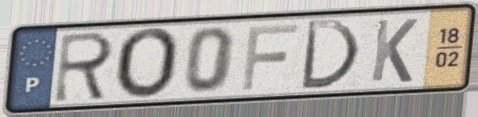0: (182, 24, 236, 97)
D: (297, 17, 363, 92)
F: (239, 22, 301, 93)
K: (368, 17, 421, 85)
O: (113, 25, 183, 102)
R: (51, 29, 118, 105)
